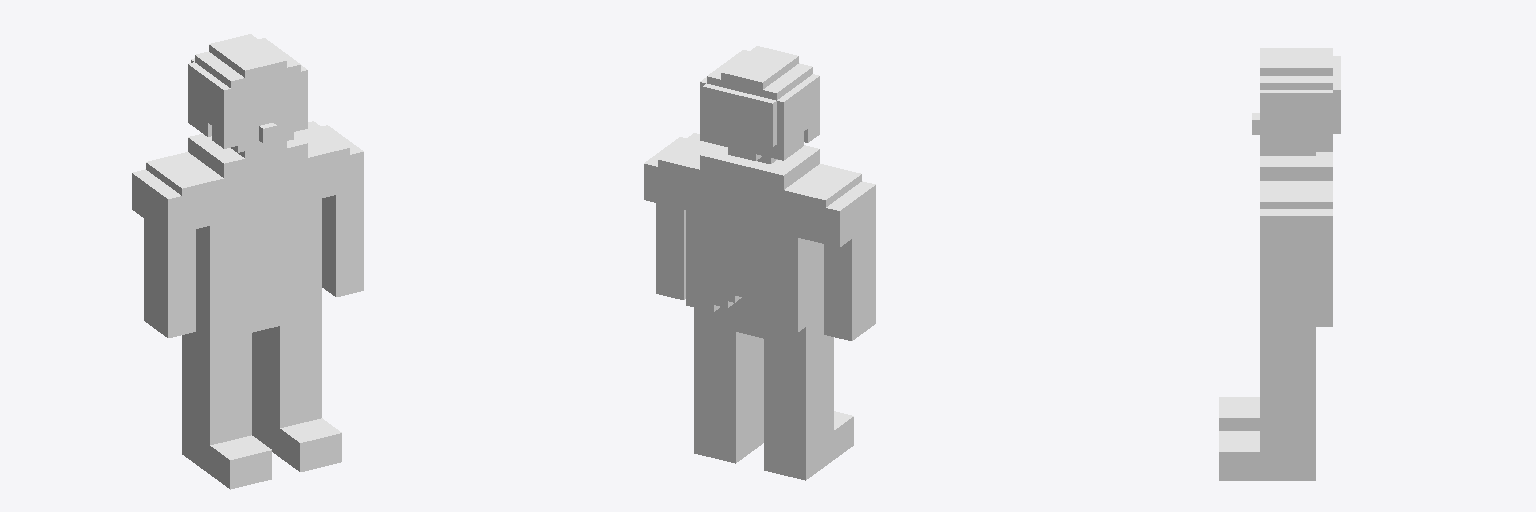
File: cousin.obj
3 views of the same model, side by side, from view 1: azimuth 30°, elevation 25°; view 2: azimuth 150°, elevation 25°; view 3: azimuth 270°, elevation 25° (orthographic).
Size of the model in its own units: 28 by 54 by 15.